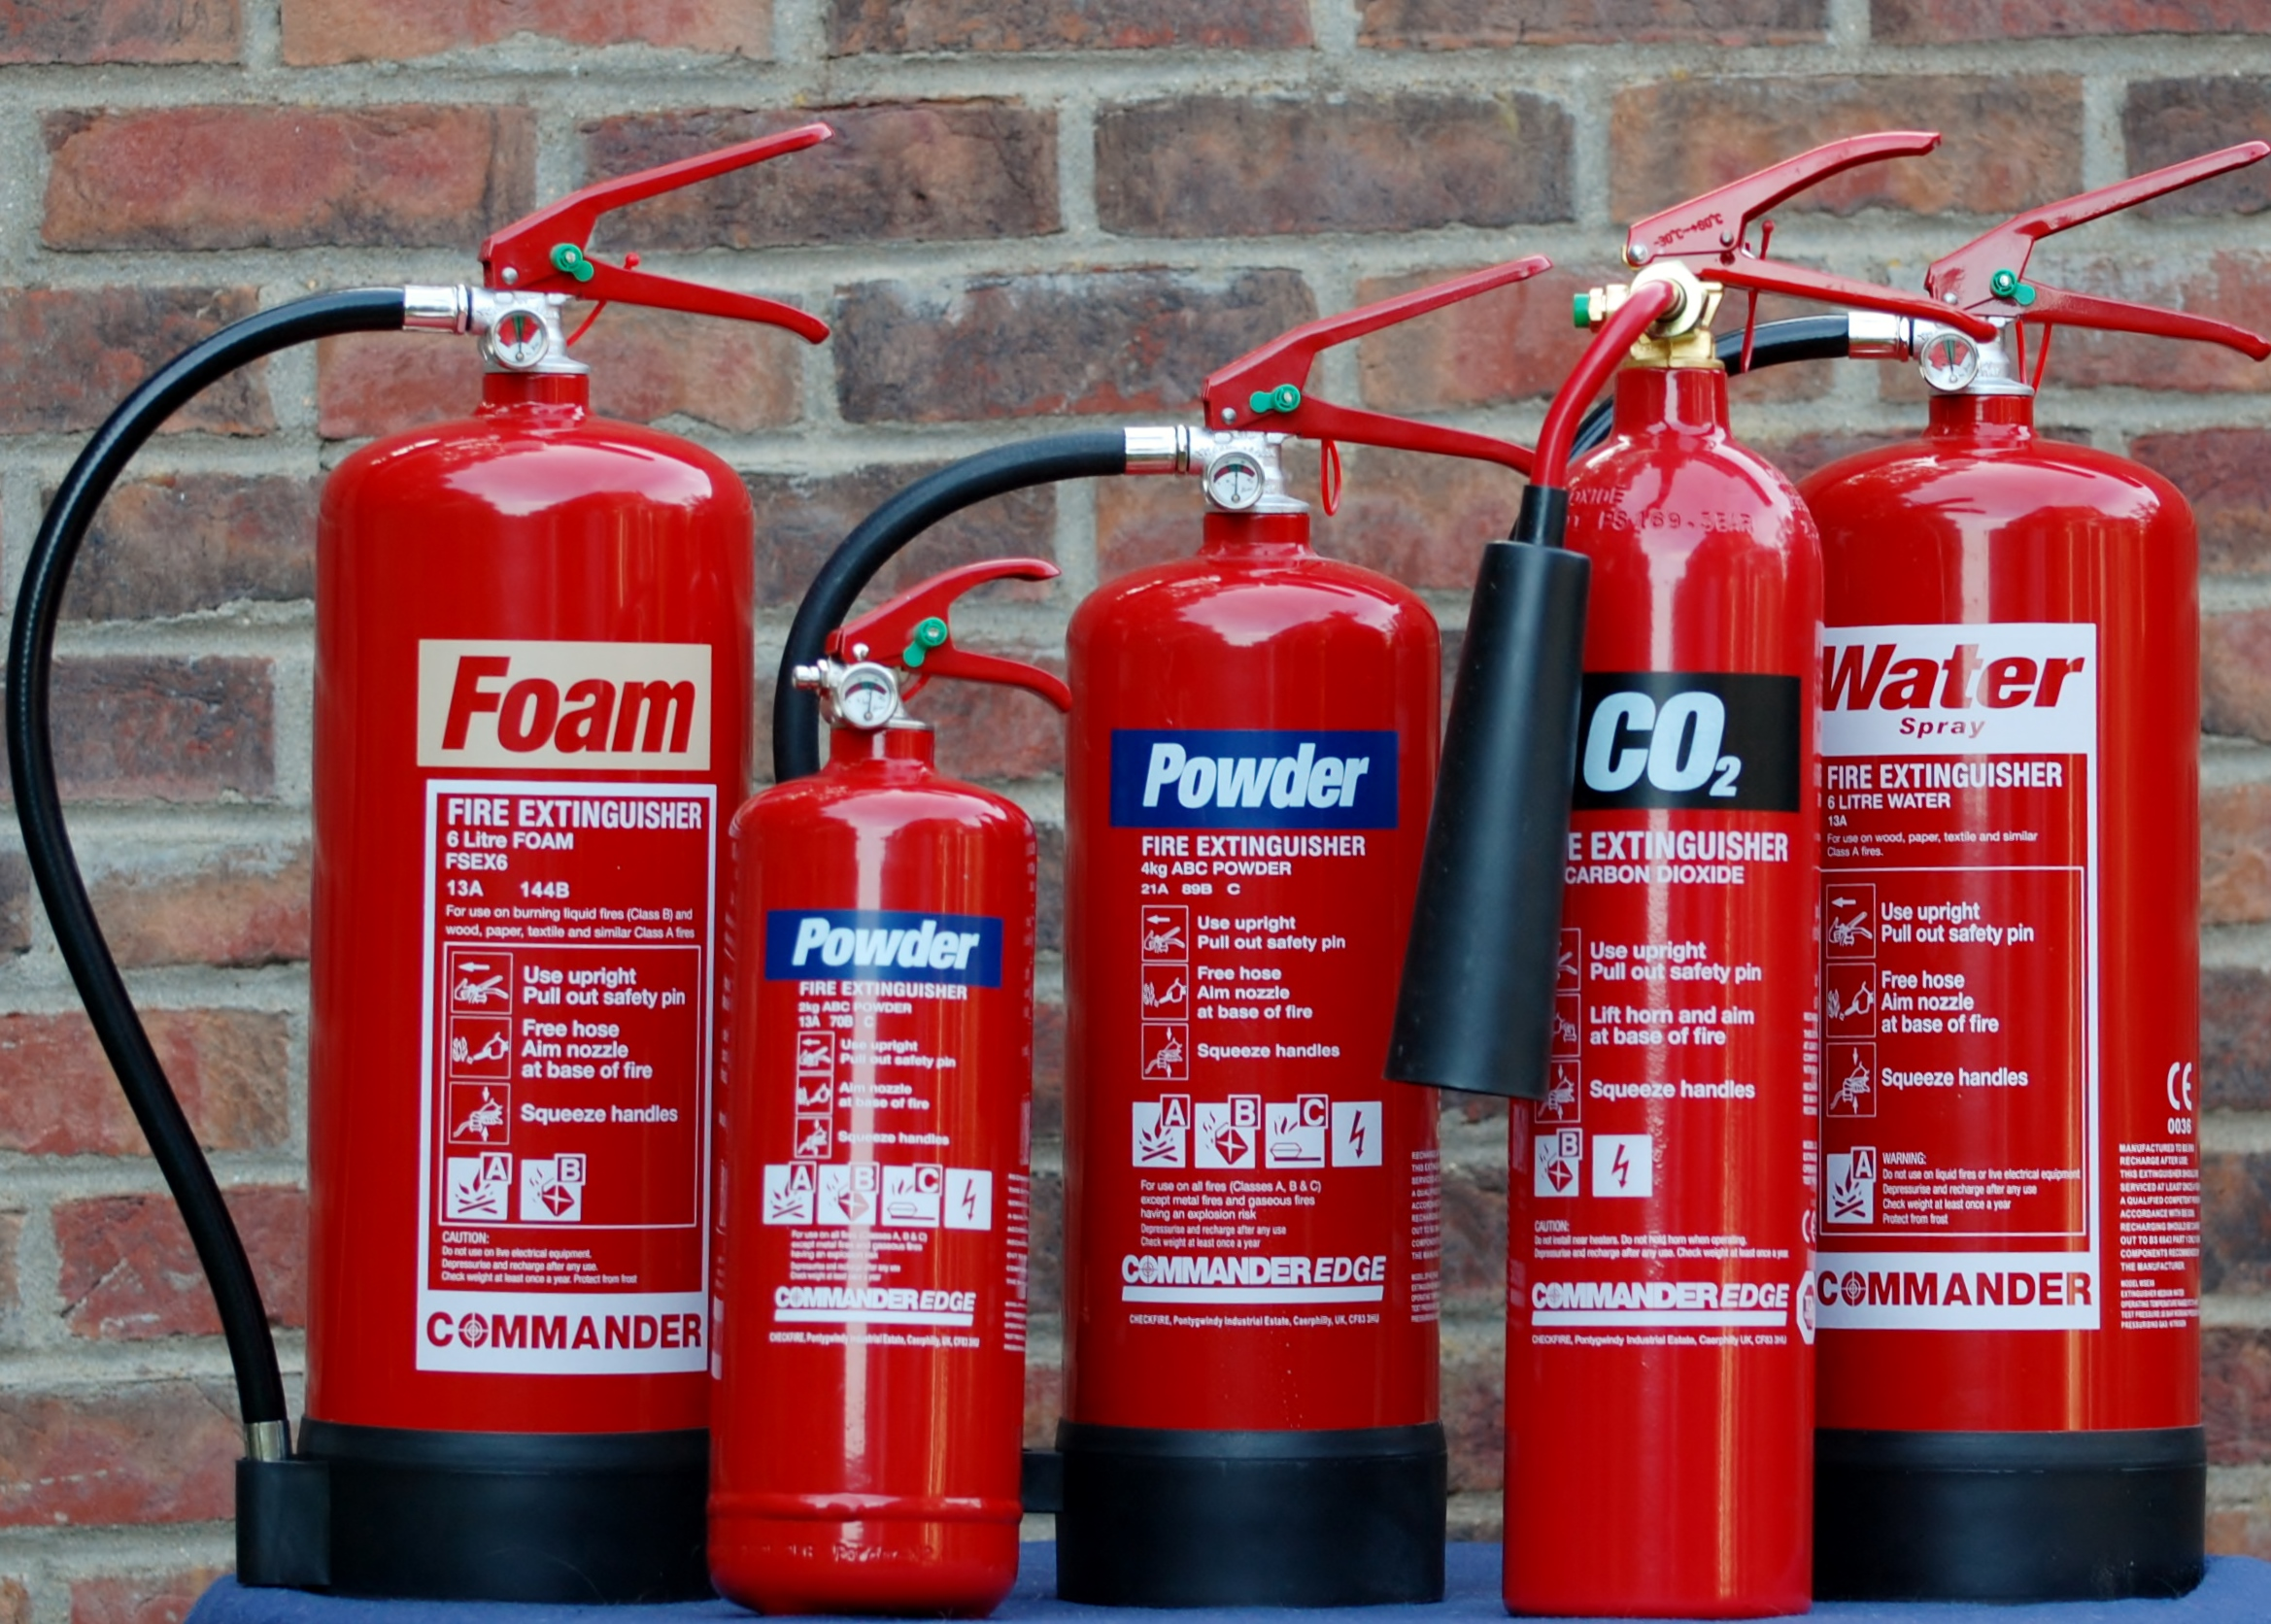fire: (12, 120, 756, 1603), (1383, 134, 1825, 1615), (1793, 137, 2209, 1603), (1058, 257, 1448, 1605), (722, 559, 1072, 1598)
